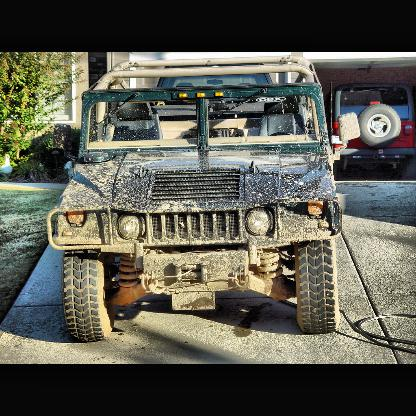AM General Hummer SUV 2000: (47, 56, 348, 344)
